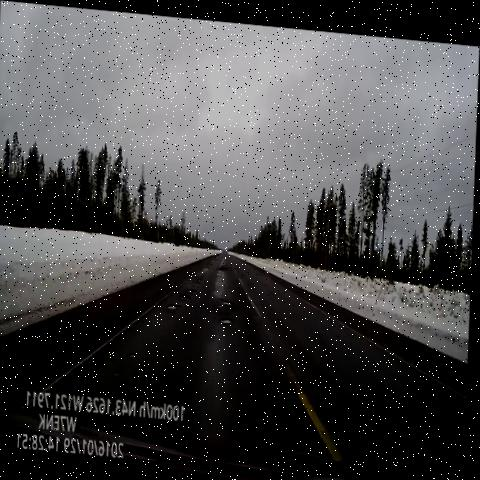pothole: (217, 250, 236, 277), (219, 308, 240, 328), (220, 287, 239, 305), (177, 291, 194, 308), (169, 295, 183, 312), (185, 281, 201, 293), (197, 268, 208, 285)
